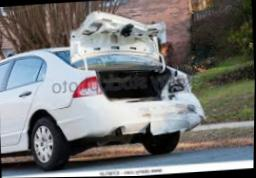Bumper: (131, 96, 208, 135)
Dickey: (71, 9, 171, 102)
Light: (166, 71, 192, 93)
